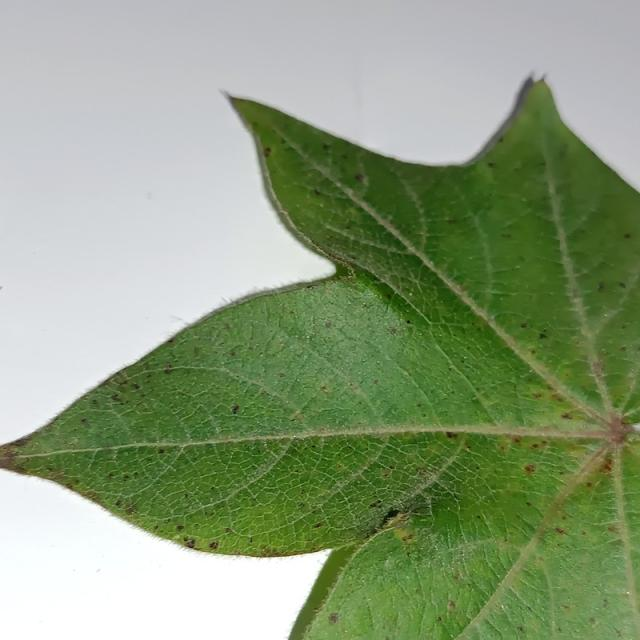Bacterial_Blight: (200, 538, 312, 558), (383, 510, 412, 532), (517, 457, 544, 477), (6, 434, 31, 454), (607, 425, 630, 446), (445, 423, 465, 447), (520, 456, 539, 478), (229, 397, 245, 419), (589, 277, 611, 292), (537, 326, 556, 343), (209, 535, 225, 551), (598, 457, 613, 474), (289, 409, 306, 423), (470, 393, 486, 407), (592, 359, 605, 374), (344, 266, 356, 279), (328, 613, 339, 625), (124, 505, 136, 516), (348, 382, 360, 393), (362, 529, 373, 540), (369, 499, 381, 508), (185, 539, 195, 549), (164, 363, 173, 374), (111, 394, 122, 403), (608, 526, 620, 534), (354, 173, 364, 182), (404, 369, 414, 378), (554, 526, 565, 534), (402, 534, 413, 542), (448, 600, 456, 610), (131, 382, 141, 390), (263, 147, 271, 157), (614, 626, 622, 636), (561, 412, 572, 419), (209, 541, 218, 549), (562, 604, 571, 612), (532, 392, 542, 399), (193, 346, 200, 356), (114, 499, 122, 507), (320, 385, 328, 393), (313, 188, 321, 196), (322, 143, 330, 151), (416, 466, 425, 473), (65, 483, 74, 490), (176, 524, 184, 531), (539, 332, 547, 339), (513, 437, 521, 444), (589, 617, 596, 625), (91, 398, 99, 405), (167, 337, 175, 344), (500, 233, 511, 238), (603, 599, 609, 608), (381, 472, 390, 478), (173, 534, 182, 540), (517, 626, 524, 633), (229, 350, 236, 357), (123, 473, 130, 480), (526, 606, 533, 613), (618, 281, 625, 288), (225, 527, 233, 533), (315, 522, 323, 528), (324, 322, 332, 328), (389, 328, 397, 334), (624, 233, 632, 239), (487, 162, 495, 168), (306, 284, 315, 289), (520, 322, 527, 328), (158, 448, 165, 454), (107, 472, 114, 478), (525, 501, 532, 507), (278, 372, 285, 378), (621, 346, 628, 352), (350, 255, 357, 261), (362, 302, 368, 309), (417, 331, 423, 338), (531, 443, 539, 448), (587, 481, 593, 487), (373, 379, 379, 385), (386, 293, 392, 299), (153, 525, 159, 531), (313, 607, 319, 613), (263, 443, 269, 449), (295, 377, 301, 383), (437, 616, 442, 623), (80, 418, 87, 423), (345, 225, 352, 230), (405, 319, 411, 324), (416, 403, 422, 408), (311, 444, 317, 449), (305, 334, 311, 339), (342, 629, 347, 634), (462, 355, 467, 360), (292, 434, 297, 439), (249, 537, 253, 543), (361, 358, 366, 362), (408, 292, 413, 296), (385, 637, 391, 640), (376, 360, 380, 364)
Cotton: (0, 80, 639, 639)
